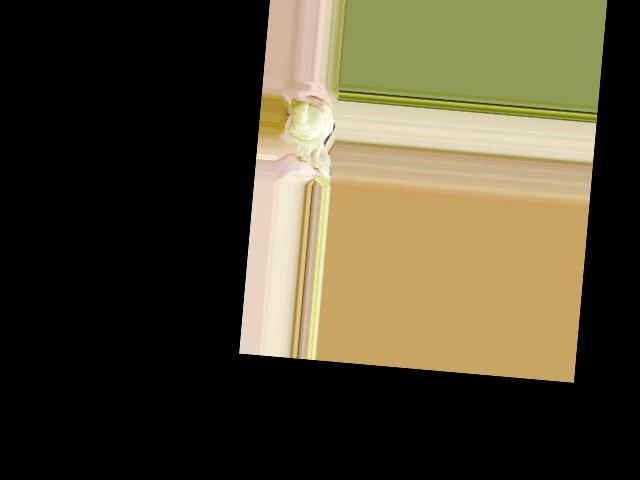lettuce: (279, 93, 337, 158)
